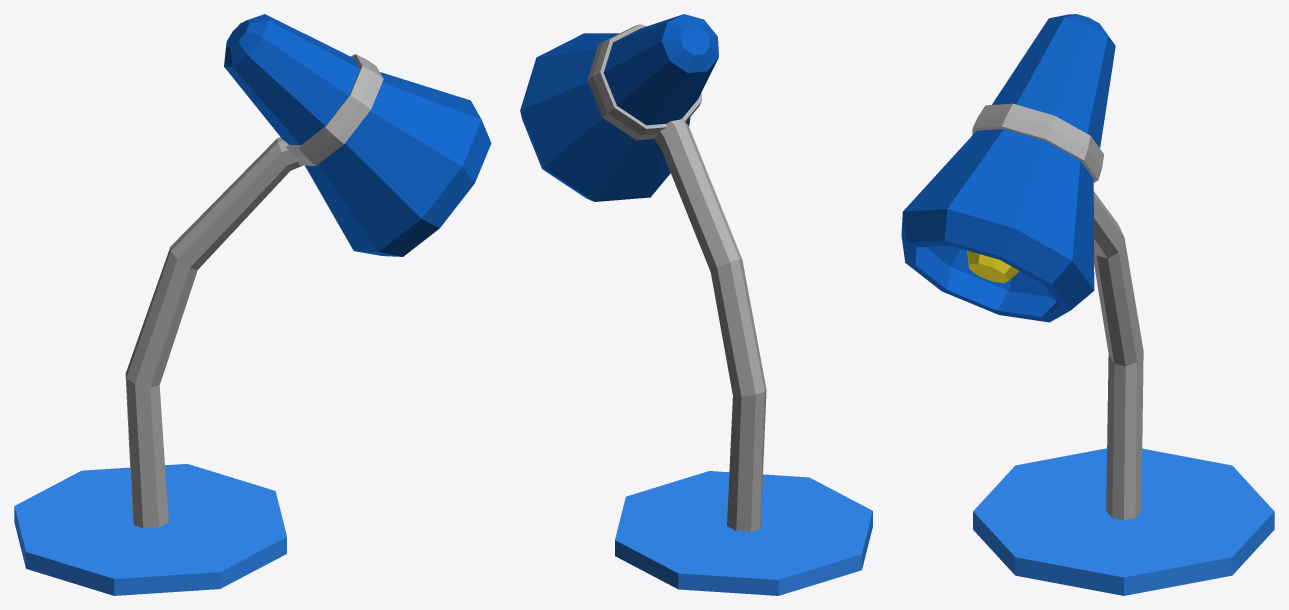
Rendered from lamp.gltf.
3 renders of one model, left to right at view 1: azimuth 30°, elevation 25°; view 2: azimuth 150°, elevation 25°; view 3: azimuth 270°, elevation 25°, orthographic. The views are drawn at different scales.
Visible parts, largest first — view 1: Cube; view 2: Cube; view 3: Cube.
Part boxes in pixels (box(x1,y1,x2,y2)): Cube: box(14, 14, 491, 595); Cube: box(520, 14, 872, 595); Cube: box(901, 14, 1274, 595).
Size of the model in its own units: 4.63 by 5.7 by 3.44.
1 material, 1 textured.
